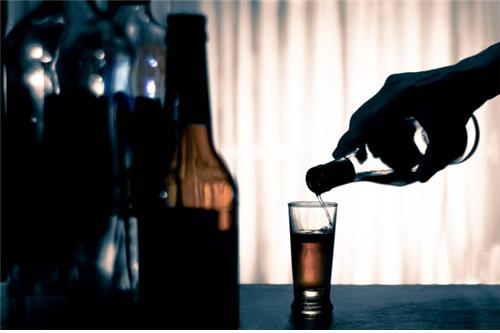alcohol: (145, 13, 241, 333), (305, 114, 481, 195), (286, 201, 339, 332)
